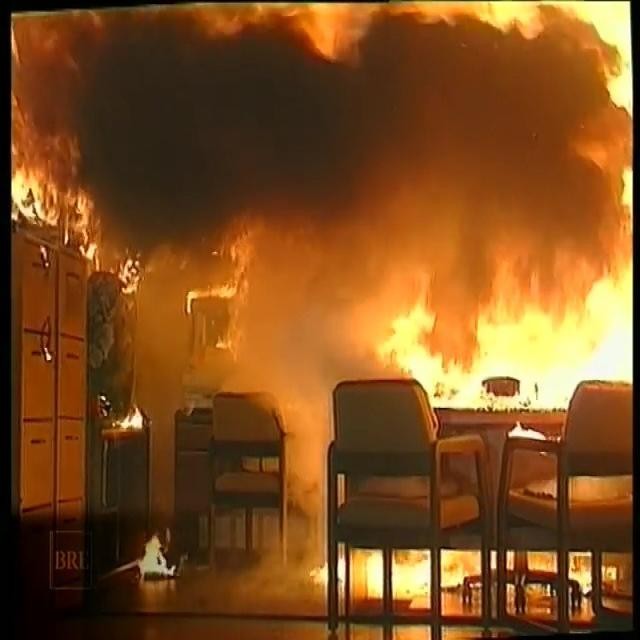Fire: (7, 0, 631, 415)
